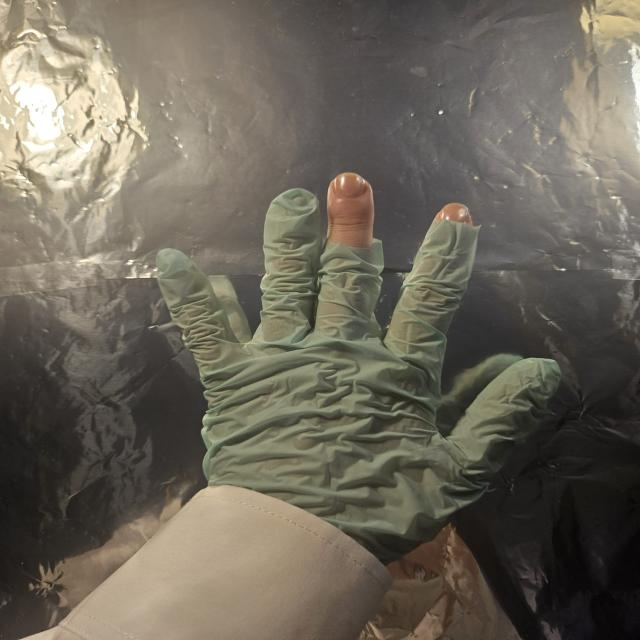gloves_damaged: (152, 174, 563, 566)
